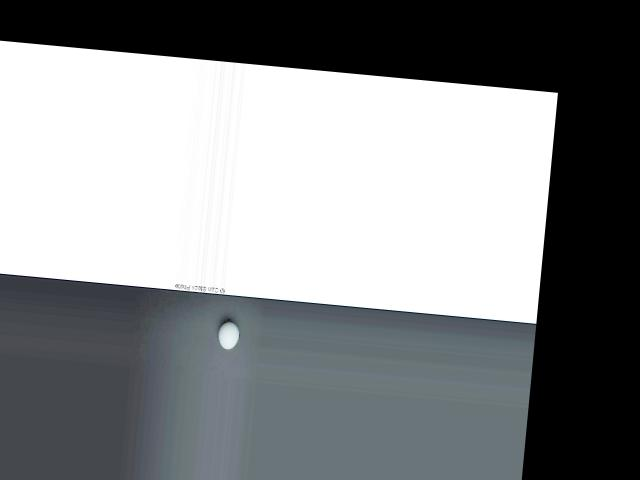egg: (216, 320, 240, 350)
